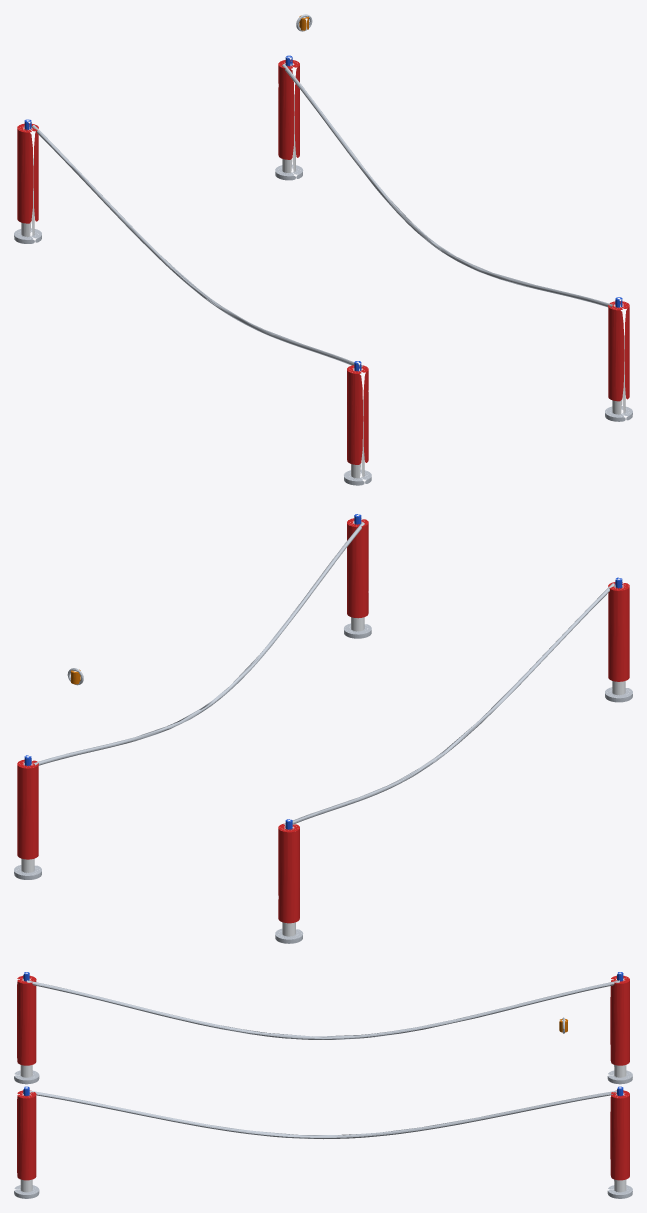
Rendered from pneumatic_air_jacks.glb.
3 renders of one model, top to bottom at view 1: azimuth 30°, elevation 25°; view 2: azimuth 150°, elevation 25°; view 3: azimuth 270°, elevation 25°, orthographic. The views are drawn at different scales.
Visible parts, largest first — view 1: Pneumatic_Air_Jacks_System_Assembly; view 2: Pneumatic_Air_Jacks_System_Assembly; view 3: Pneumatic_Air_Jacks_System_Assembly.
Boxes of the visible parts, x1,y1,x2,y2 form: Pneumatic_Air_Jacks_System_Assembly: [14, 14, 632, 485]; Pneumatic_Air_Jacks_System_Assembly: [14, 514, 632, 943]; Pneumatic_Air_Jacks_System_Assembly: [14, 972, 632, 1198].
Size of the model in its own units: 1.05 by 0.6567 by 2.19.
